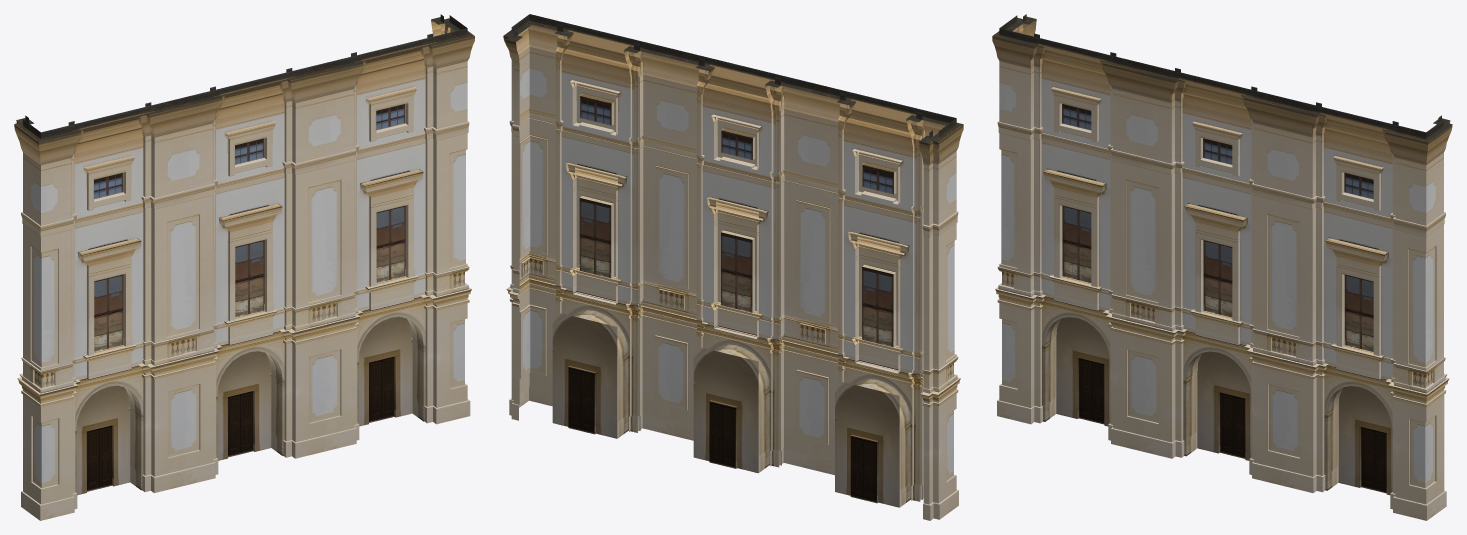
Rendered from wwwunderkammer_Regine_Asset_building-02.glb.
The picture shows the model from 3 angles, left to right: view 1: azimuth 30°, elevation 25°; view 2: azimuth 150°, elevation 25°; view 3: azimuth 330°, elevation 25°; orthographic projection.
Visible parts, largest first — view 1: Building2:Plane03; view 2: Building2:Plane03; view 3: Building2:Plane03.
Part boxes in pixels (bbox=[...]): Building2:Plane03: bbox=[14, 14, 474, 520]; Building2:Plane03: bbox=[503, 14, 963, 520]; Building2:Plane03: bbox=[992, 14, 1452, 520].
Bounding box in the file's own units: 3.98 × 3.39 × 0.4505.
Materials: 1 (1 with a texture image).
